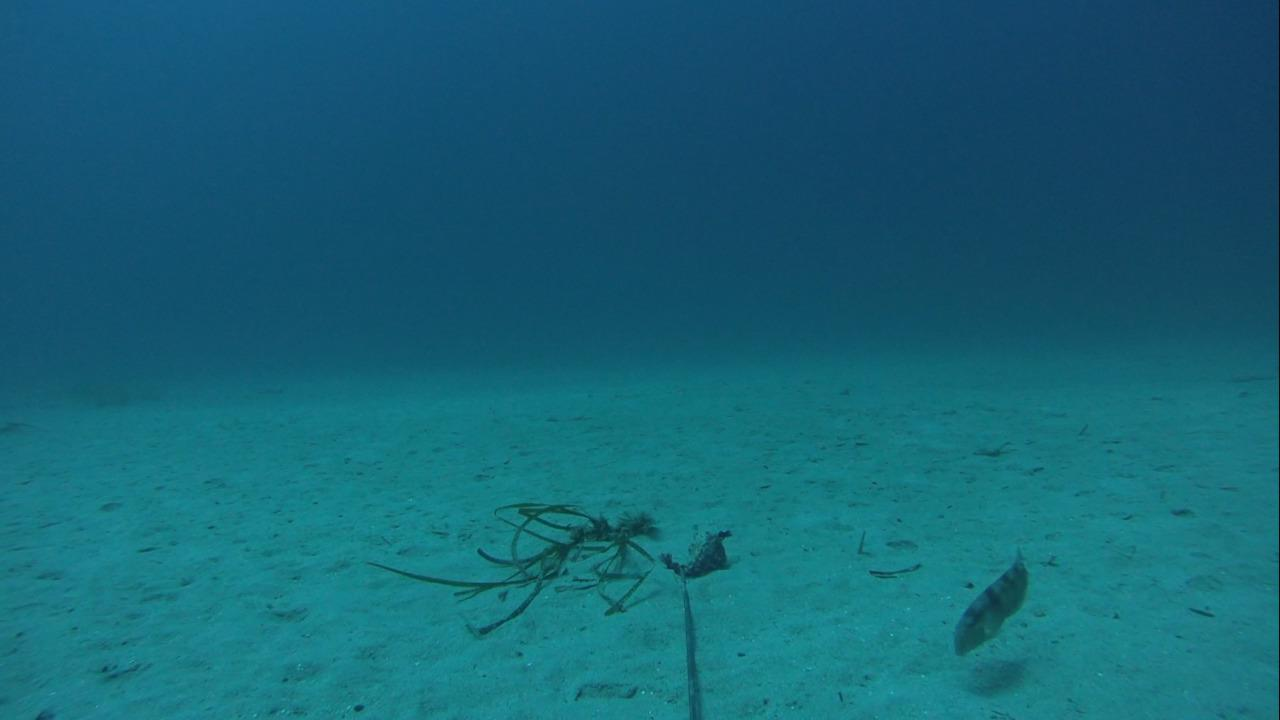raor: (951, 546, 1030, 658)
